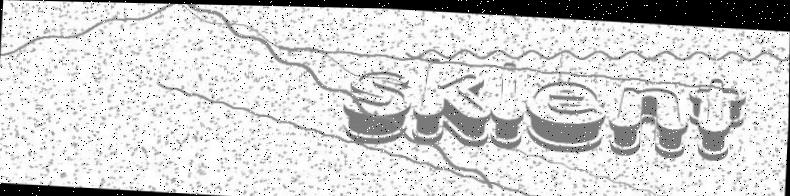e: (526, 71, 610, 155)
k: (412, 52, 494, 144)
l: (487, 54, 531, 150)
n: (606, 77, 692, 156)
s: (341, 61, 415, 144)
t: (691, 72, 750, 162)
